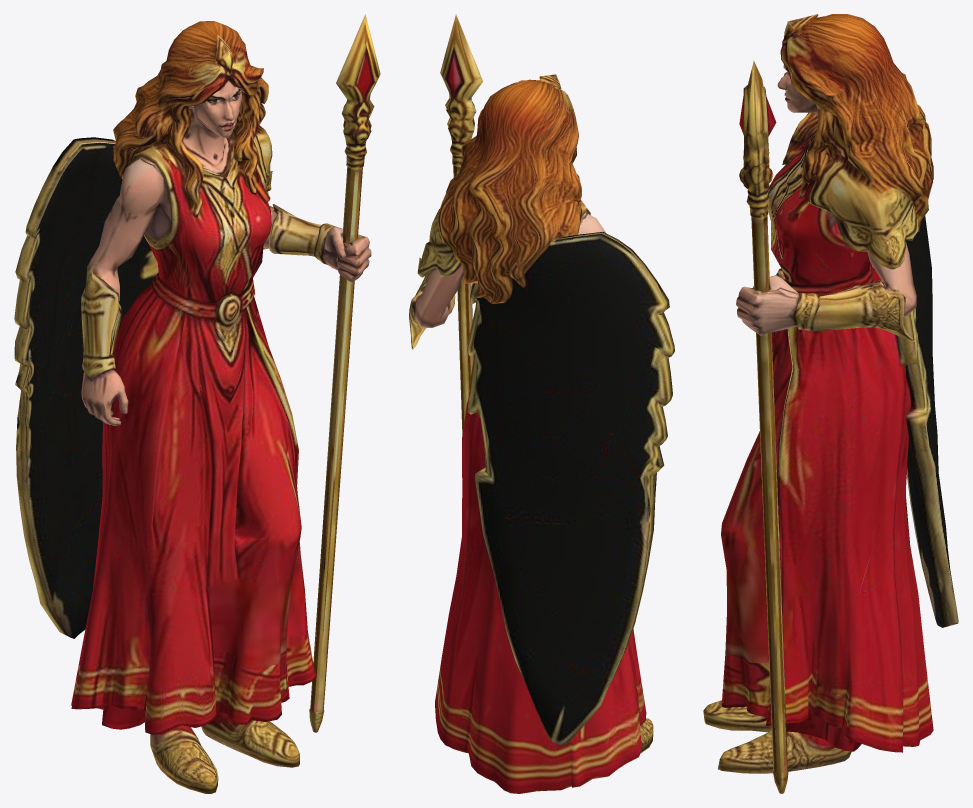
The model's file is fante.glb.
3 renders of one model, left to right at view 1: azimuth 30°, elevation 25°; view 2: azimuth 150°, elevation 25°; view 3: azimuth 270°, elevation 25°, orthographic. The views are drawn at different scales.
Size of the model in its own units: 0.4199 by 0.9536 by 0.2935.
1 material, 1 textured.
